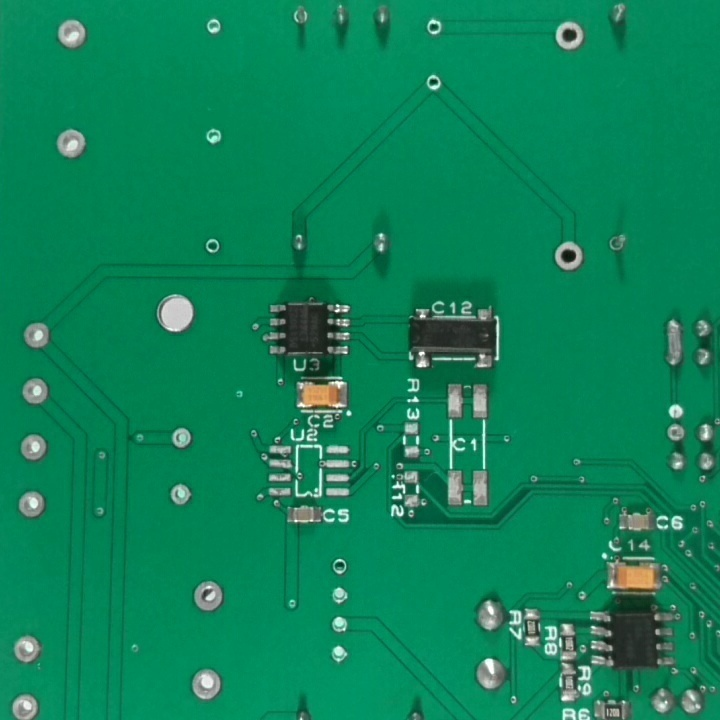F: (188, 665, 226, 703), (56, 18, 95, 55), (550, 239, 588, 275), (191, 578, 228, 614), (551, 18, 588, 54), (54, 126, 91, 161), (19, 375, 54, 412), (20, 320, 54, 356), (17, 433, 52, 466), (11, 632, 43, 667), (16, 490, 48, 522), (10, 692, 42, 720), (166, 480, 193, 508), (168, 425, 194, 451), (665, 419, 689, 447), (288, 6, 317, 28), (328, 643, 354, 666), (202, 17, 228, 37), (329, 586, 351, 608), (204, 126, 225, 149), (422, 73, 446, 93), (330, 616, 351, 638), (608, 232, 629, 254), (202, 236, 222, 258), (330, 555, 350, 576), (425, 18, 445, 36)
P: (662, 315, 687, 372)
